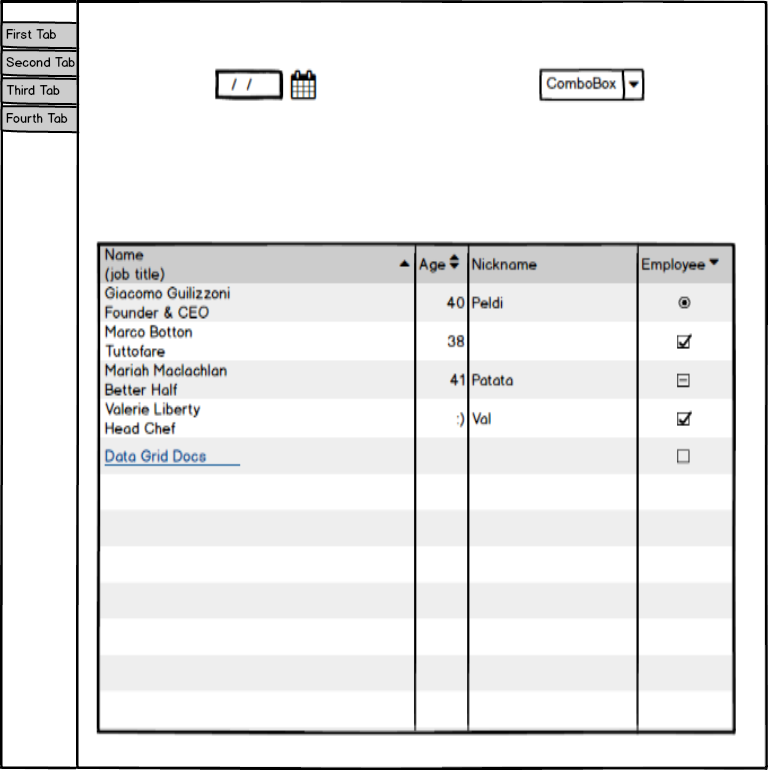date_picker: (206, 62, 323, 110)
select_box: (530, 59, 649, 107)
sidebar: (2, 14, 84, 143)
table: (91, 233, 743, 741)
